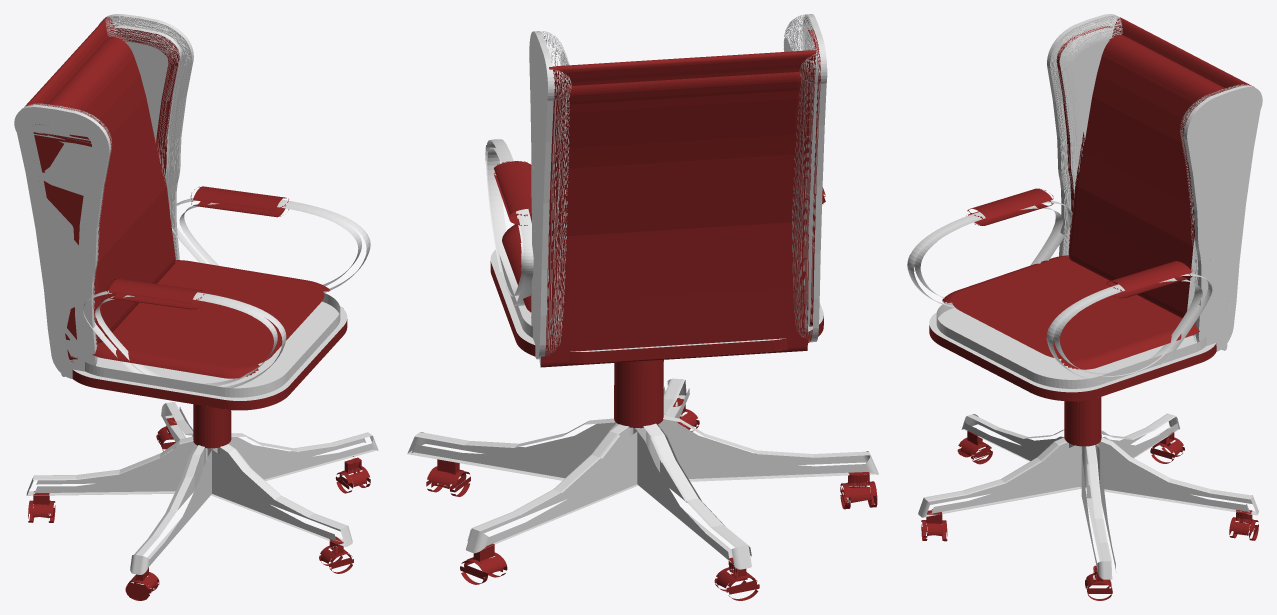
The model's file is luxury-chair.glb.
3 renders of one model, left to right at view 1: azimuth 30°, elevation 25°; view 2: azimuth 150°, elevation 25°; view 3: azimuth 270°, elevation 25°, orthographic. The views are drawn at different scales.
Parts seen in each view (by area): view 1: Null7_AYAK_Cylinder_black_0, Null7_AYAK_Null1_Extrude6_gold_0, Null7_Null5_Null11_Extrude_3_Cap_28_Mat_7_0; view 2: Null7_AYAK_Cylinder_black_0, Null7_AYAK_Null1_Extrude6_gold_0, Null7_Null5_Null11_Extrude_3_Cap_28_Mat_7_0; view 3: Null7_AYAK_Cylinder_black_0, Null7_AYAK_Null1_Extrude6_gold_0, Null7_Null5_Null11_Extrude_3_Cap_28_Mat_7_0.
Part boxes in pixels (bbox=[...]): Null7_AYAK_Cylinder_black_0: bbox=[25, 17, 370, 600]; Null7_AYAK_Null1_Extrude6_gold_0: bbox=[14, 14, 378, 574]; Null7_Null5_Null11_Extrude_3_Cap_28_Mat_7_0: bbox=[95, 301, 338, 388]; Null7_AYAK_Cylinder_black_0: bbox=[426, 29, 877, 600]; Null7_AYAK_Null1_Extrude6_gold_0: bbox=[407, 14, 878, 569]; Null7_Null5_Null11_Extrude_3_Cap_28_Mat_7_0: bbox=[515, 30, 818, 367]; Null7_AYAK_Cylinder_black_0: bbox=[921, 17, 1258, 600]; Null7_AYAK_Null1_Extrude6_gold_0: bbox=[907, 14, 1262, 579]; Null7_Null5_Null11_Extrude_3_Cap_28_Mat_7_0: bbox=[938, 27, 1227, 379].
Size of the model in its own units: 0.8503 by 1.05 by 0.7743.
